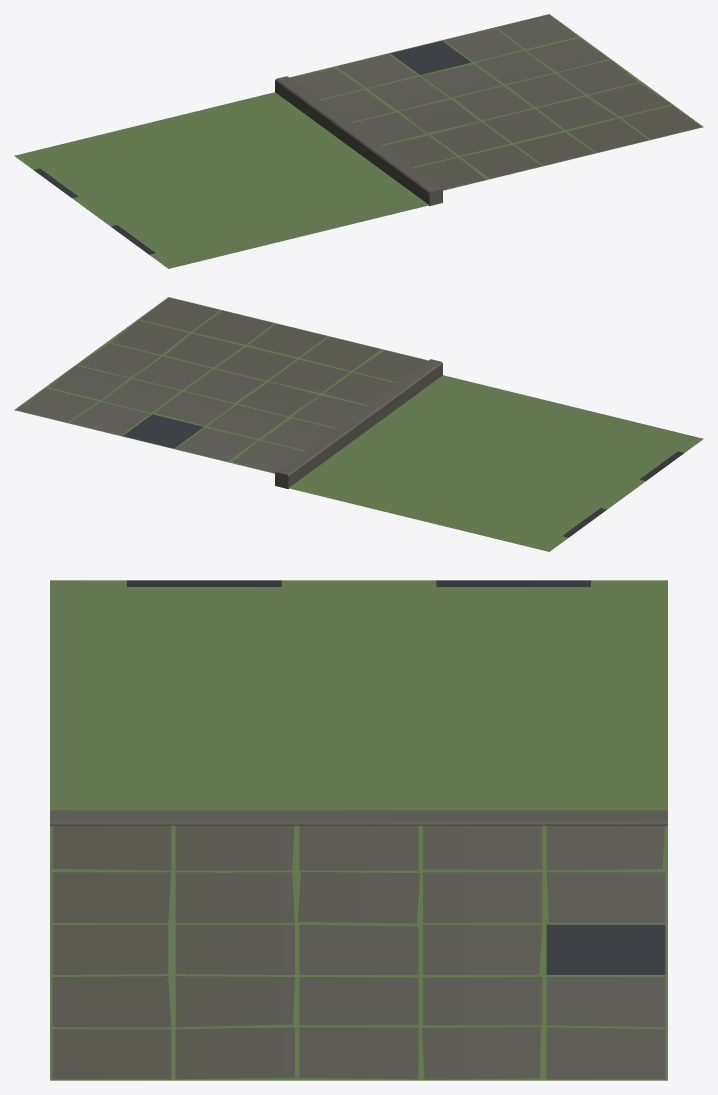
The model's file is Road_09.fbx.
3 views of the same model, one above another, from view 1: azimuth 30°, elevation 25°; view 2: azimuth 150°, elevation 25°; view 3: azimuth 270°, elevation 25° (orthographic). The views are drawn at different scales.
Parts seen in each view (by area): view 1: Road_09; view 2: Road_09; view 3: Road_09.
Boxes of the visible parts, bbox=[...] form: Road_09: bbox=[14, 14, 703, 268]; Road_09: bbox=[14, 297, 703, 551]; Road_09: bbox=[50, 580, 667, 1080].
Size of the model in its own units: 6 by 0.15 by 3.
